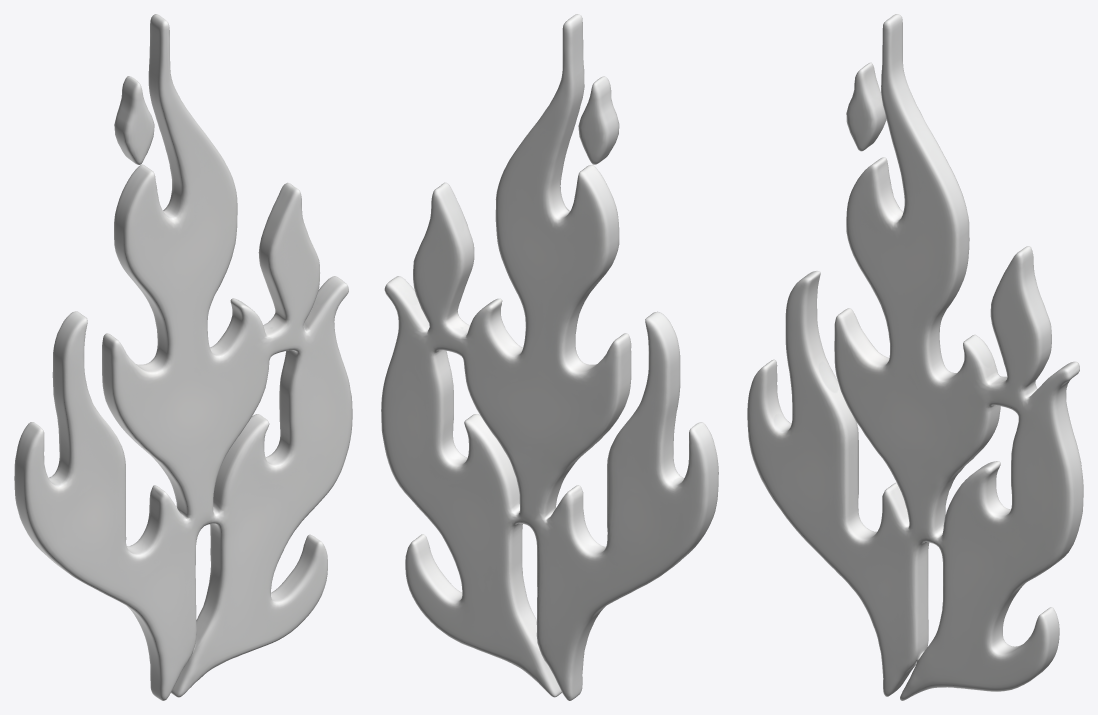
The model's file is brand1.glb.
The picture shows the model from 3 angles, left to right: view 1: azimuth 30°, elevation 25°; view 2: azimuth 150°, elevation 25°; view 3: azimuth 330°, elevation 25°; orthographic projection.
Visible parts, largest first — view 1: model; view 2: model; view 3: model.
Part boxes in pixels (left/top/right/bottom): model: left=14, top=14, right=352, bottom=700; model: left=381, top=14, right=718, bottom=700; model: left=747, top=14, right=1083, bottom=700.
Size of the model in its own units: 0.9591 by 1.91 by 0.0763.
1 material, 1 textured.
